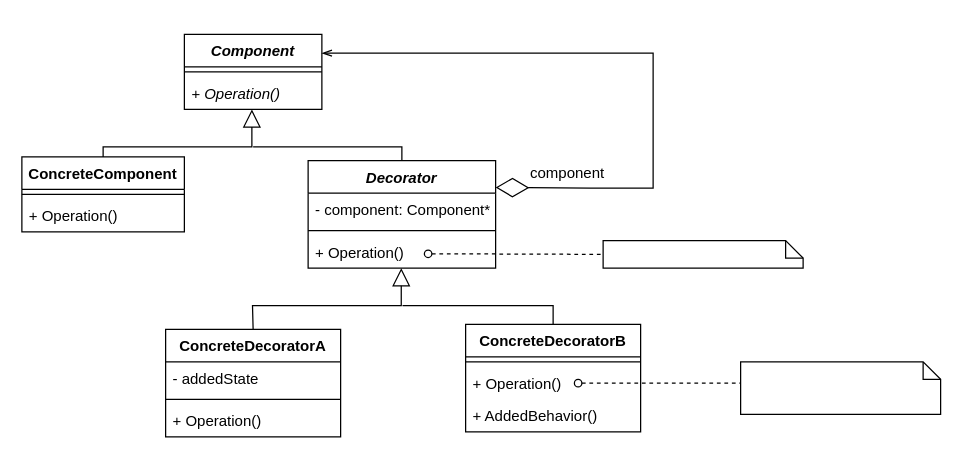
Some shapes in this 963 by 463 pixel diagram are drawn without their labels. The centre of each missing label's shape, as x and y in pixels:
component->Operation(): point 702,253
Derator::Operation() AddedBehavior(): point 840,387
